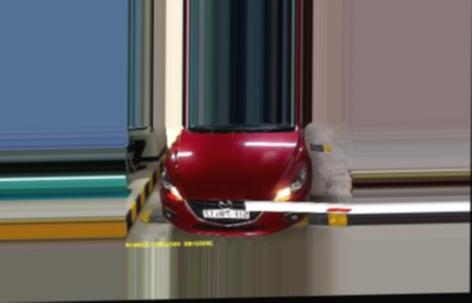License_Plate: (202, 205, 251, 221)
